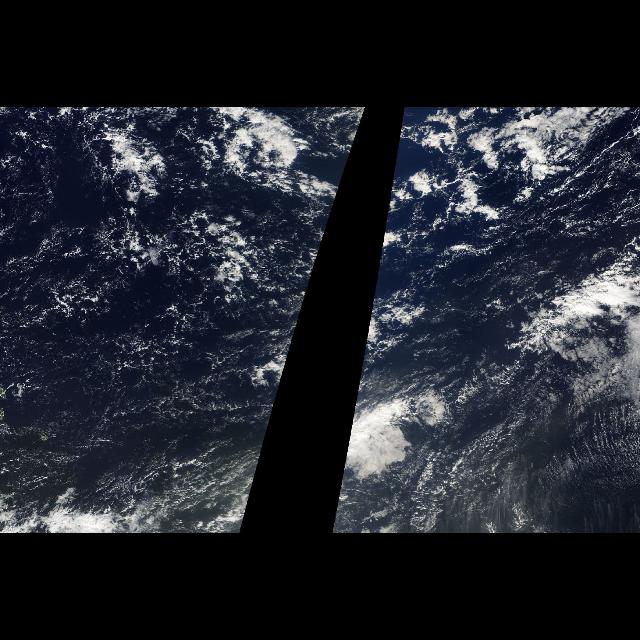Fish: (92, 111, 366, 285), (376, 111, 632, 285)
Gravel: (0, 111, 280, 533), (380, 107, 632, 249)
Sugar: (382, 368, 640, 534)
